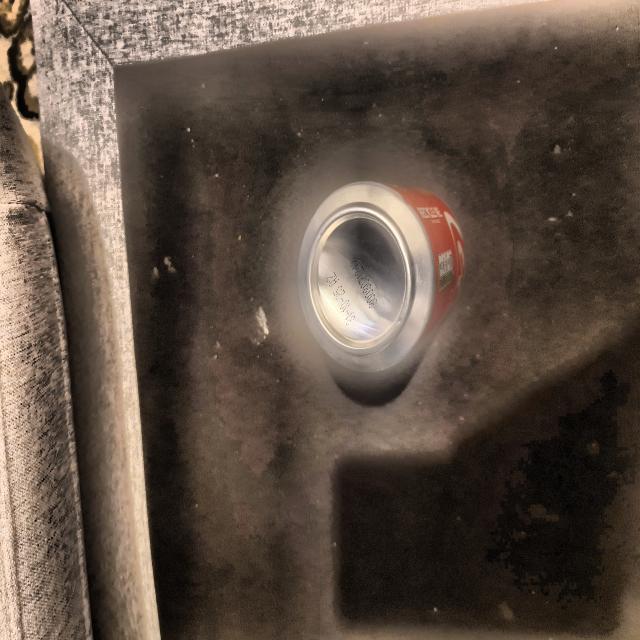coke-can: (303, 172, 468, 372)
